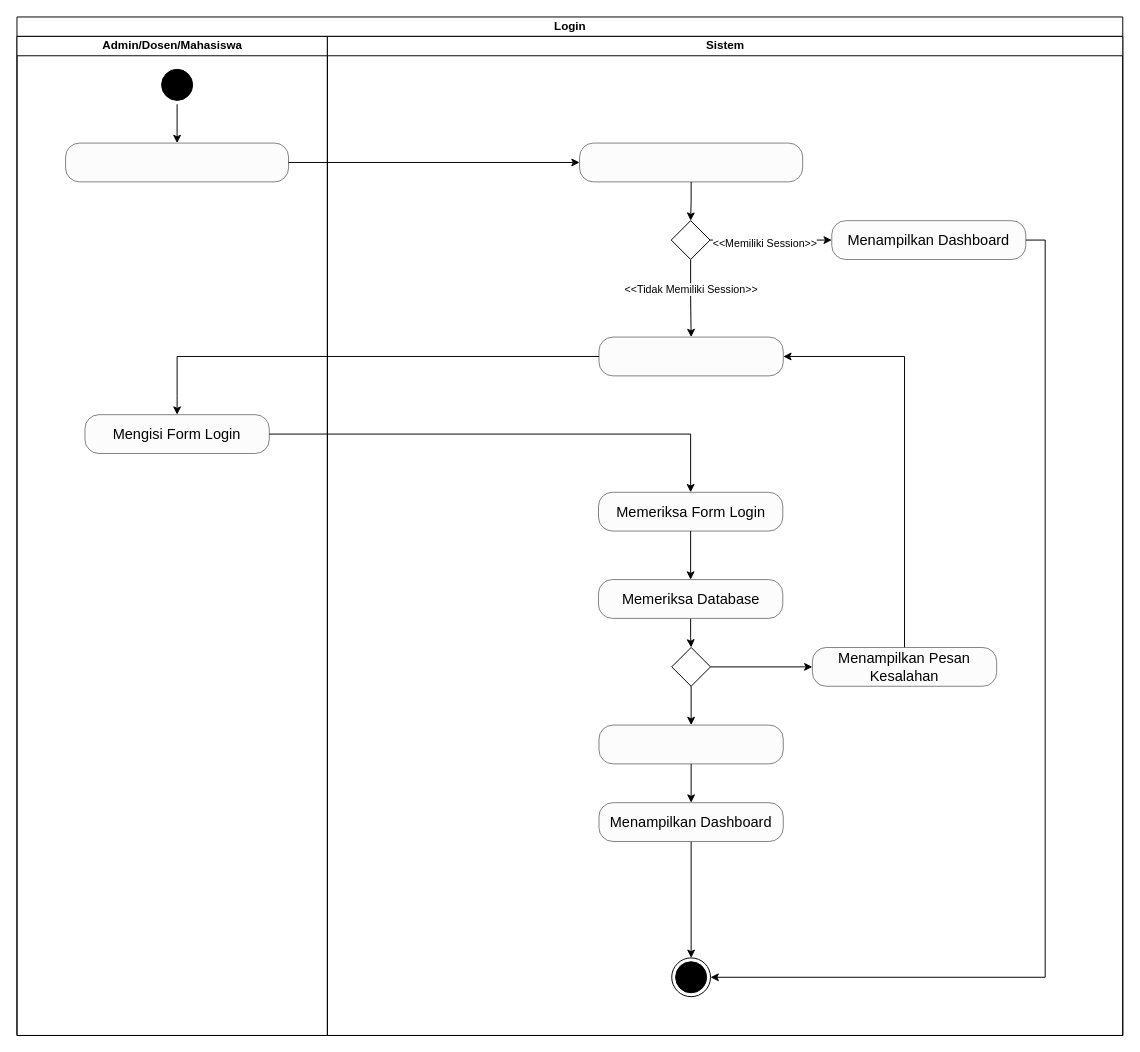
Image size: 1140x1052. Some labels were removed from this diagram. The shapes that lost their labels are listed below. From the top down, each one's centre as x and y in pixels, then its label:
At [176,162]: "Memilih Login".
At [690,162]: "Memeriksa Status Login".
At [690,356]: "Menampilkan Form Login".
At [690,744]: "Menampilkan Pesan Berhasil".
